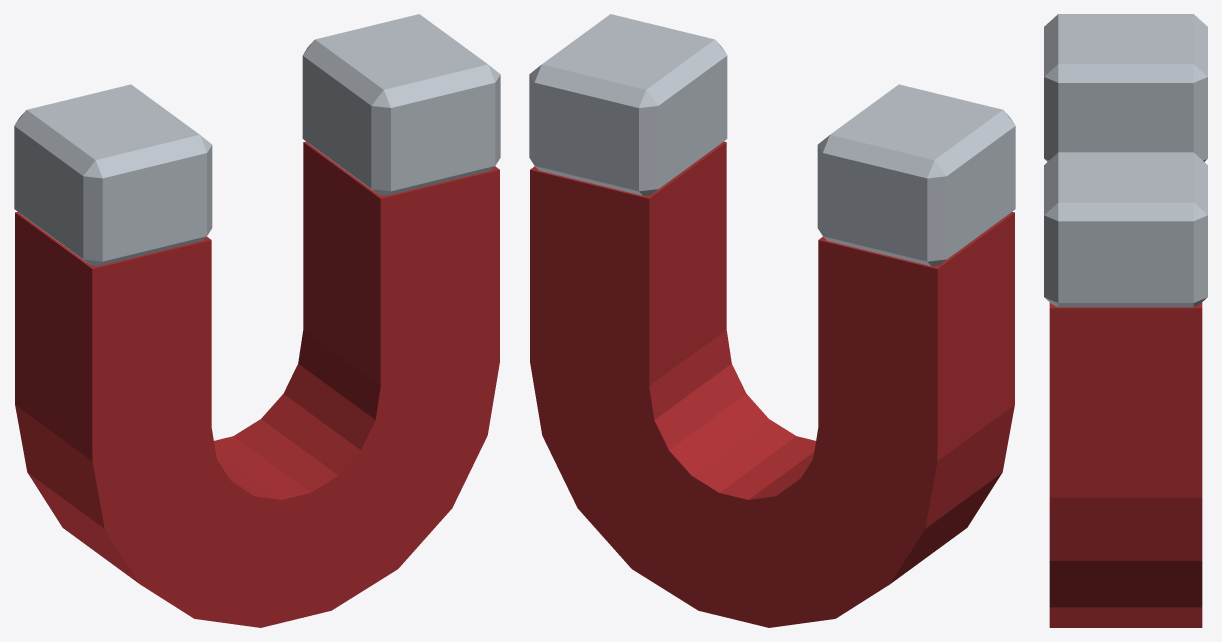
File: Pickup_Magnet.fbx
The picture shows the model from 3 angles, left to right: view 1: azimuth 30°, elevation 25°; view 2: azimuth 150°, elevation 25°; view 3: azimuth 270°, elevation 25°; orthographic projection.
Parts seen in each view (by area): view 1: Body, Tips; view 2: Body, Tips; view 3: Body, Tips.
Boxes of the visible parts, box(x1,y1,x2,y2) form: Body: box(15, 141, 499, 627); Tips: box(14, 14, 500, 266); Body: box(530, 141, 1014, 627); Tips: box(529, 14, 1015, 266); Body: box(1049, 302, 1202, 627); Tips: box(1044, 14, 1207, 307).
Bounding box in the file's own units: 1.68 × 1.94 × 0.58.
